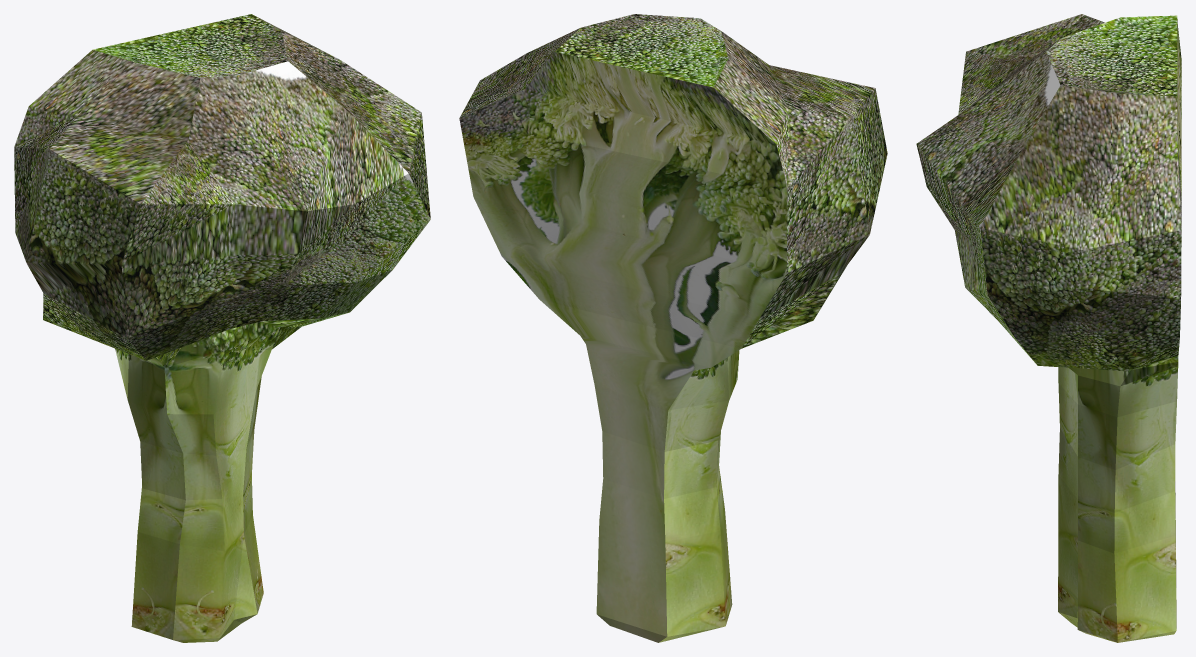
File: Broccoli.glb
The picture shows the model from 3 angles, left to right: view 1: azimuth 30°, elevation 25°; view 2: azimuth 150°, elevation 25°; view 3: azimuth 270°, elevation 25°; orthographic projection.
Visible parts, largest first — view 1: Cube; view 2: Cube; view 3: Cube.
Part boxes in pixels (x1=…): Cube: x1=14, y1=14, x2=430, y2=642; Cube: x1=459, y1=14, x2=887, y2=642; Cube: x1=916, y1=14, x2=1181, y2=642.
Size of the model in its own units: 1.91 by 2.65 by 1.1.
Materials: 1 (1 with a texture image).
